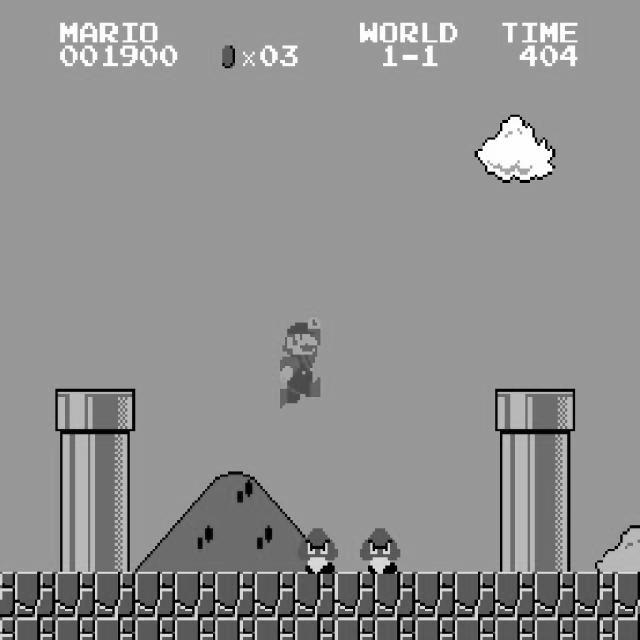0- big_mario: (277, 314, 320, 408)
14- pipe: (54, 434, 96, 480), (54, 480, 96, 526), (54, 526, 96, 572), (94, 434, 136, 480), (94, 480, 136, 526), (94, 526, 136, 572), (494, 434, 536, 480), (494, 480, 536, 526), (494, 526, 536, 572), (534, 434, 576, 480), (534, 480, 576, 526), (534, 526, 576, 572)
15- pipe_head: (54, 388, 96, 434), (94, 388, 136, 434), (494, 388, 536, 434), (534, 388, 576, 434)
17- undestructible_block: (54, 572, 96, 618), (94, 572, 136, 618), (134, 572, 176, 618), (174, 572, 216, 618), (214, 572, 256, 618), (254, 572, 296, 618), (294, 572, 336, 618), (334, 572, 376, 618), (374, 572, 416, 618), (414, 572, 456, 618), (454, 572, 496, 618), (494, 572, 536, 618), (534, 572, 576, 618), (574, 572, 616, 618), (15, 572, 56, 618), (614, 571, 640, 617), (54, 617, 96, 640), (94, 617, 136, 640), (134, 617, 176, 640), (174, 617, 216, 640), (214, 617, 256, 640), (254, 617, 296, 640), (294, 617, 336, 640), (334, 617, 376, 640), (374, 617, 416, 640), (414, 617, 456, 640), (454, 617, 496, 640), (494, 617, 536, 640), (534, 617, 576, 640), (574, 617, 616, 640), (15, 617, 56, 640), (0, 572, 15, 618), (614, 617, 640, 639), (0, 617, 15, 640)
8- goomba: (295, 526, 338, 574), (358, 526, 400, 574)
